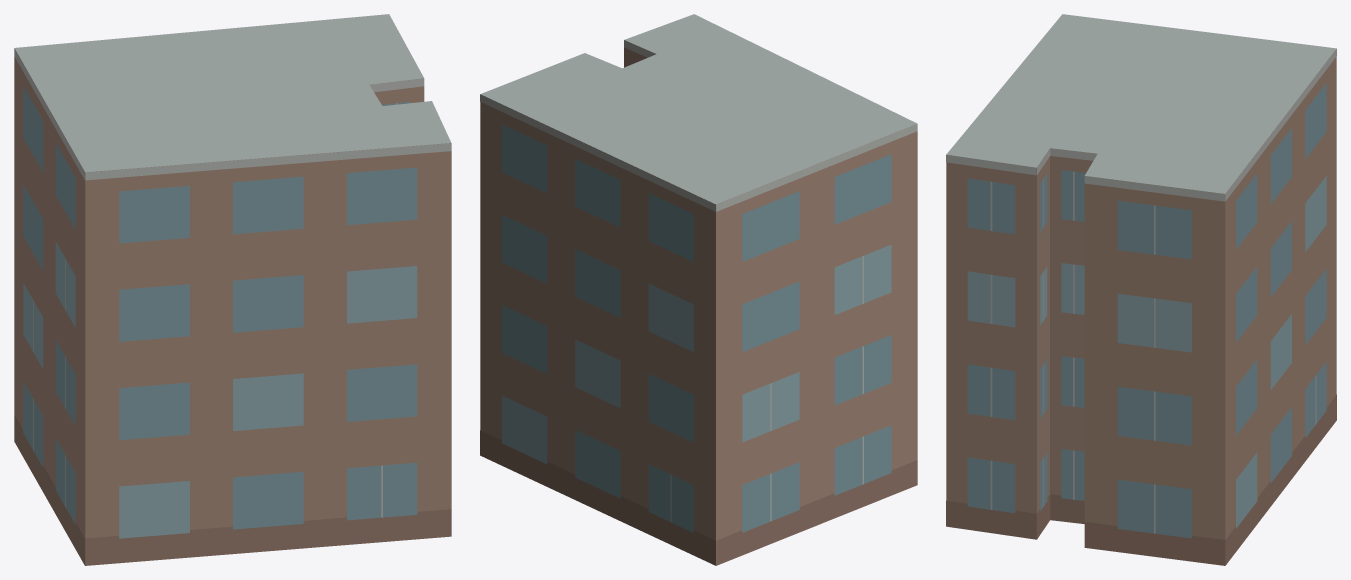
Rendered from survey-upis-33032187.glb.
The picture shows the model from 3 angles, left to right: view 1: azimuth 30°, elevation 25°; view 2: azimuth 150°, elevation 25°; view 3: azimuth 270°, elevation 25°; orthographic projection. The views are drawn at different scales.
Parts seen in each view (by area): view 1: survey-upis-33032187.tmp; view 2: survey-upis-33032187.tmp; view 3: survey-upis-33032187.tmp.
Boxes of the visible parts, box(x1,y1,x2,y2) form: survey-upis-33032187.tmp: box(14, 14, 451, 565); survey-upis-33032187.tmp: box(480, 14, 917, 565); survey-upis-33032187.tmp: box(946, 14, 1336, 565).
Bounding box in the file's own units: 12.26 × 11.8 × 11.24.
